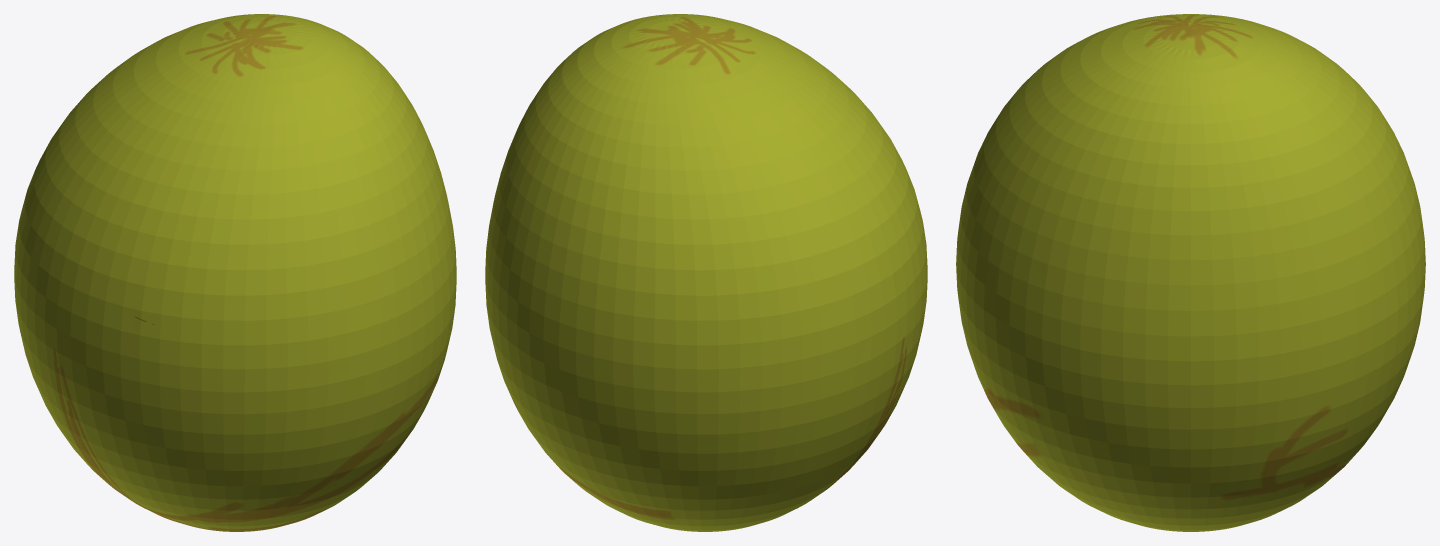
File: CocoCerrado.fbx
3 views of the same model, side by side, from view 1: azimuth 30°, elevation 25°; view 2: azimuth 150°, elevation 25°; view 3: azimuth 270°, elevation 25° (orthographic). The views are drawn at different scales.
Parts seen in each view (by area): view 1: CocoCerrado; view 2: CocoCerrado; view 3: CocoCerrado.
Part boxes in pixels (bbox=[...]): CocoCerrado: bbox=[14, 14, 456, 531]; CocoCerrado: bbox=[485, 14, 927, 531]; CocoCerrado: bbox=[956, 14, 1425, 531].
Size of the model in its own units: 0.2897 by 0.3457 by 0.2962.
